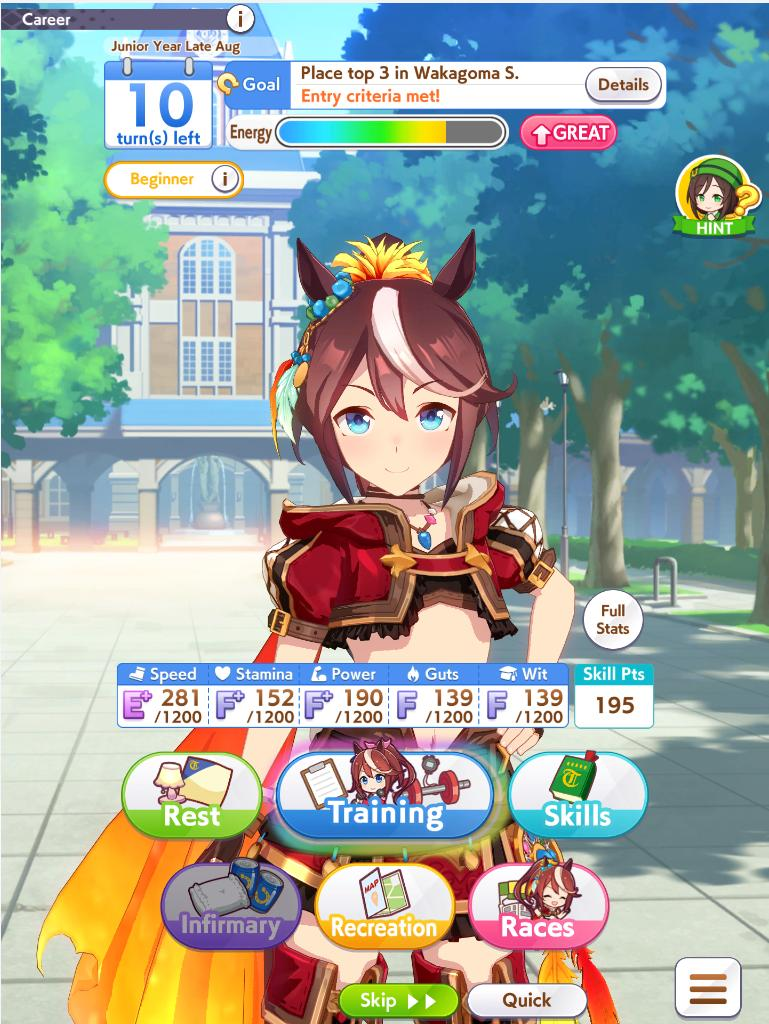Energy: (223, 112, 509, 150)
Great: (516, 113, 623, 154)
Race: (477, 866, 605, 949)
recreation: (318, 863, 454, 947)
rest: (120, 752, 265, 841)
skill: (514, 759, 644, 833)
training: (281, 752, 482, 835)
turns: (98, 53, 216, 149)
